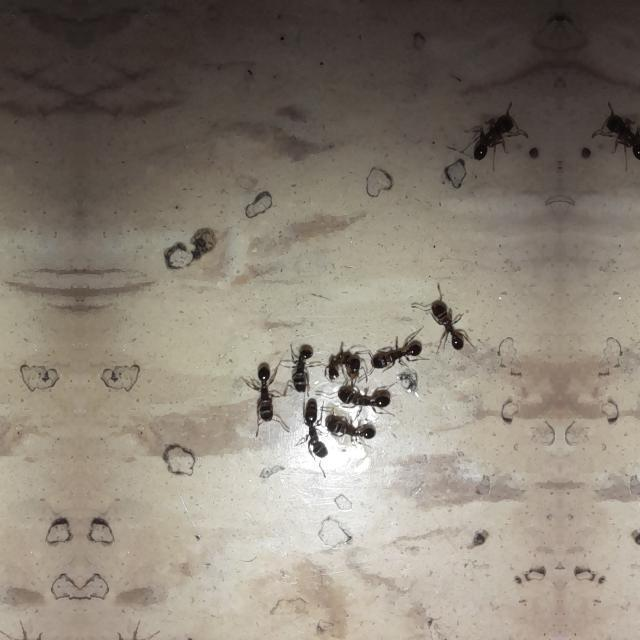Tetramorium: (468, 102, 544, 166), (576, 100, 640, 166), (252, 354, 284, 436), (368, 335, 426, 377), (321, 405, 375, 449), (329, 377, 397, 411), (430, 290, 468, 348), (320, 339, 364, 385), (281, 336, 319, 389), (298, 392, 322, 462)
